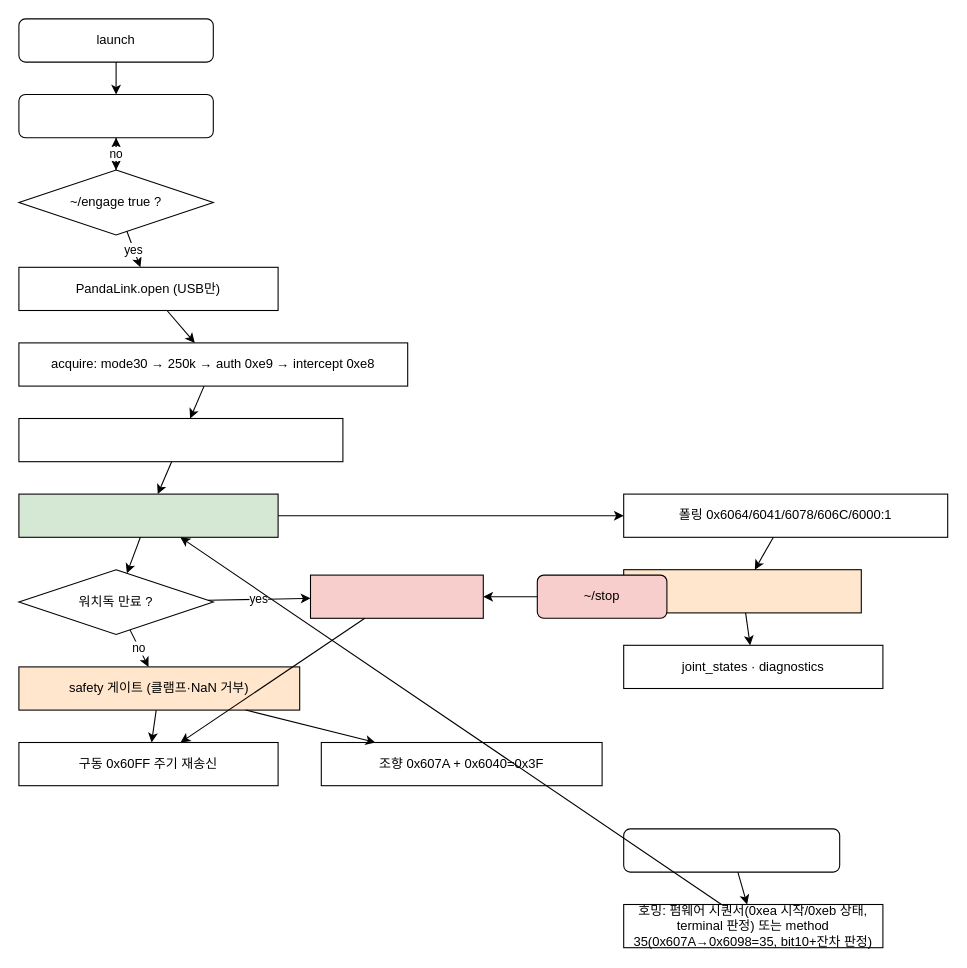
The diagram is 967 pixels wide and 968 high, and some of its shapes have lost their labels. The shapes that lost their labels are listed below. From the top down, each one's centre as x and y in pixels, then its label:
At [115,115]: "CanRelayNode 대기".
At [180,439]: "heartbeat 0xf3 = fail-safe 무장".
At [148,515]: "RelayBackend 제어 스레드".
At [396,596]: "속도 0 수렴".
At [742,591]: "bit15 신뢰 게이트".
At [731,850]: "~/home (명시요청)".
